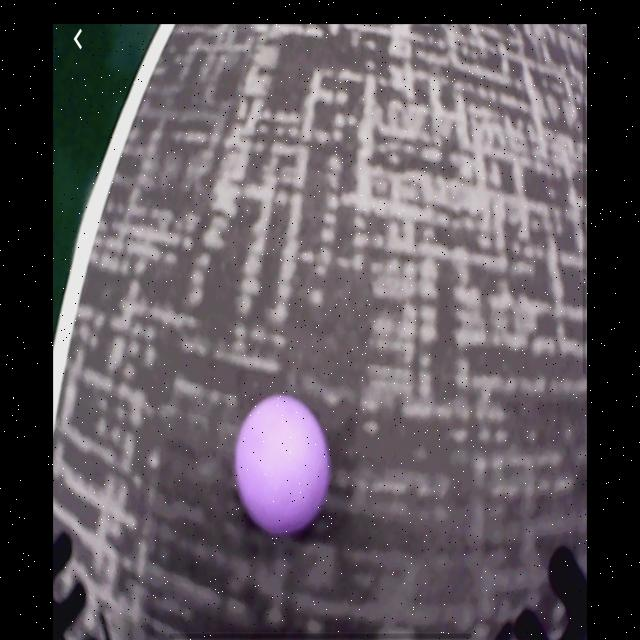ball: (236, 396, 329, 539)
